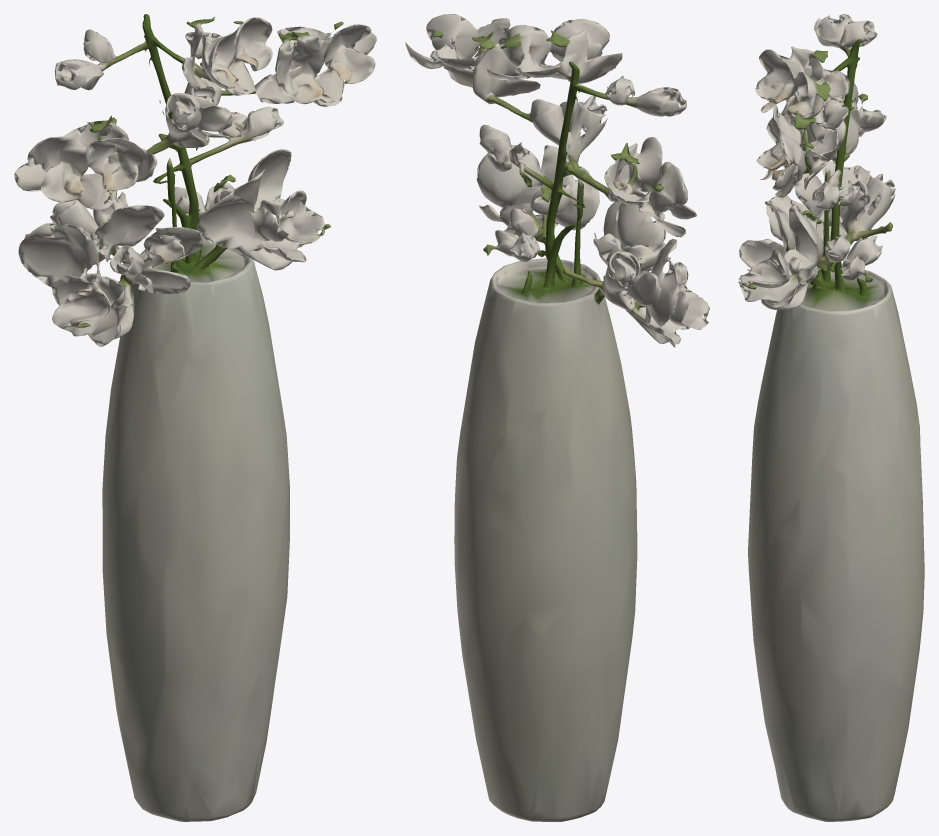
The model's file is table_vase.glb.
3 views of the same model, side by side, from view 1: azimuth 30°, elevation 25°; view 2: azimuth 150°, elevation 25°; view 3: azimuth 270°, elevation 25° (orthographic). The views are drawn at different scales.
Size of the model in its own units: 0.4326 by 0.9998 by 0.2258.
